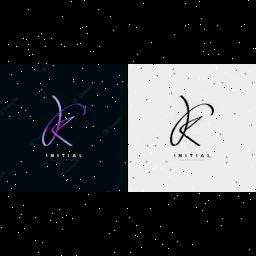k: (34, 94, 90, 150)
